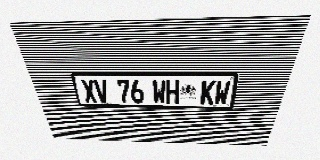6: (129, 80, 144, 103)
7: (116, 79, 132, 103)
H: (166, 80, 180, 104)
K: (200, 80, 216, 104)
V: (93, 79, 110, 103)
W: (213, 80, 231, 105), (152, 80, 166, 104)
X: (80, 79, 98, 102)
